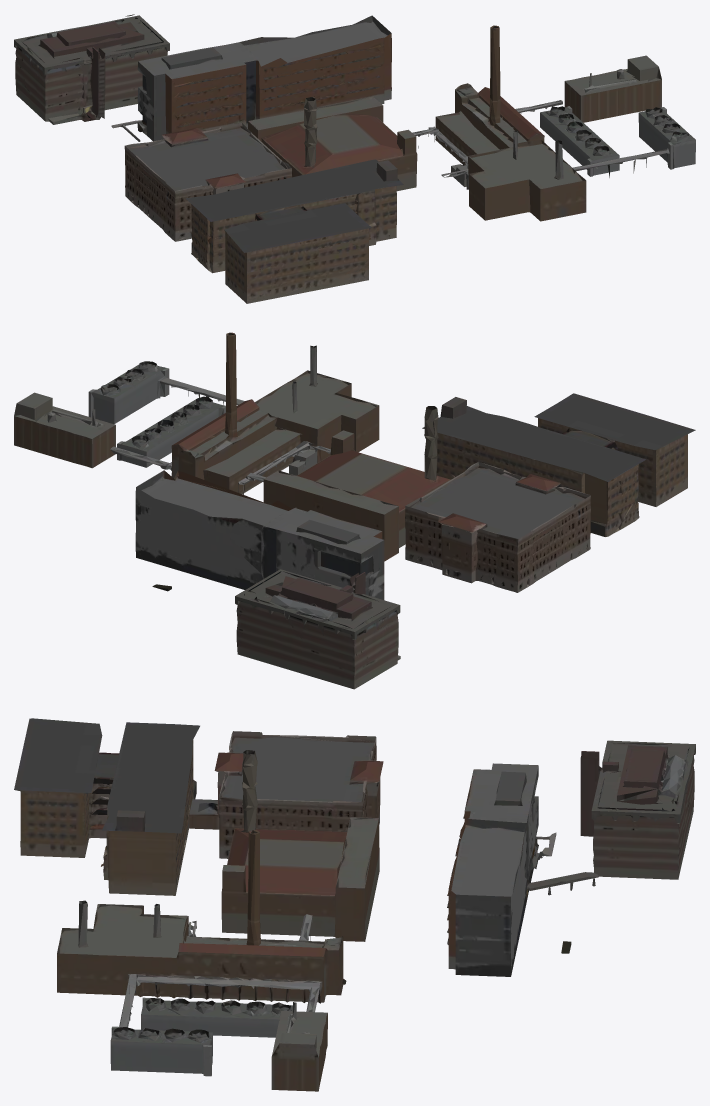
The model's file is t_1_-1.coat.glb.
3 renders of one model, top to bottom at view 1: azimuth 30°, elevation 25°; view 2: azimuth 150°, elevation 25°; view 3: azimuth 270°, elevation 25°, orthographic. The views are drawn at different scales.
Visible parts, largest first — view 1: far; view 2: far; view 3: far.
Part boxes in pixels (x1,y1,x2,y2): far: [14, 14, 695, 303]; far: [14, 332, 695, 689]; far: [14, 718, 695, 1091].
Size of the model in its own units: 267 by 62.84 by 250.
1 material, 1 textured.
